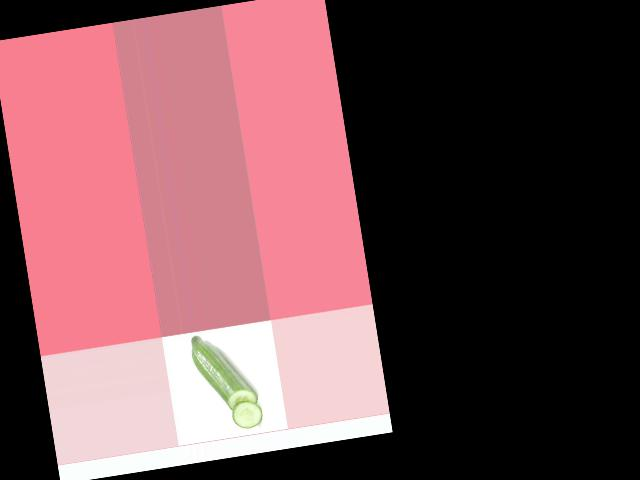cucumber: (189, 328, 259, 416)
